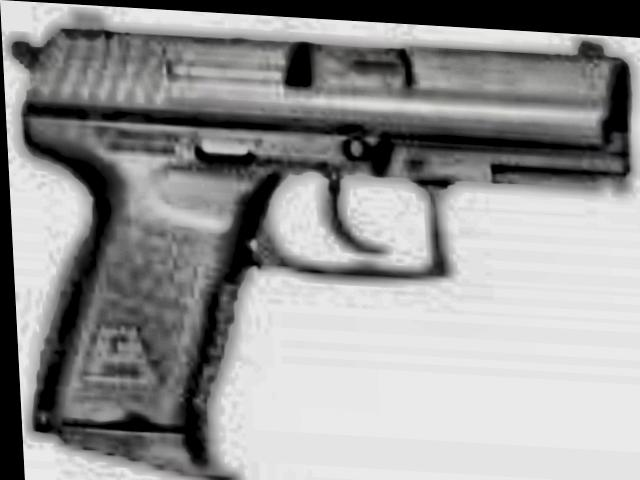pistol: (0, 0, 635, 480)
